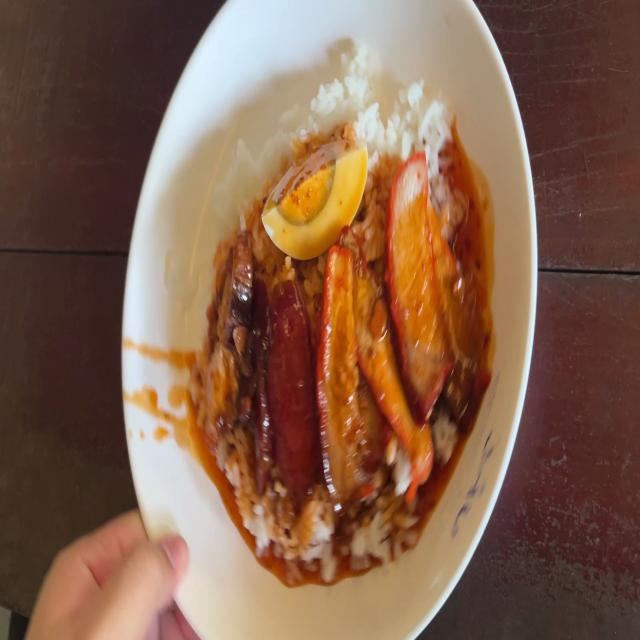01boiled_egg: (273, 147, 369, 255)
01chainese_sausage: (252, 282, 318, 490)
01crispy_pork: (209, 232, 252, 418)
01red_pork: (323, 164, 454, 480)
01red_pork_and_crispy_pork: (200, 47, 479, 568)
01rice: (326, 56, 455, 156), (241, 494, 336, 568), (214, 150, 265, 218)
